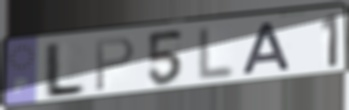1: (319, 12, 341, 70)
5: (146, 27, 185, 89)
A: (239, 20, 293, 78)
L: (41, 40, 88, 101), (195, 25, 237, 83)
P: (93, 35, 137, 94)
